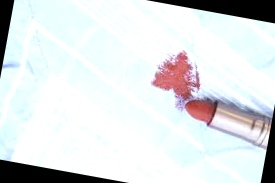lipstick: (148, 45, 209, 118)
